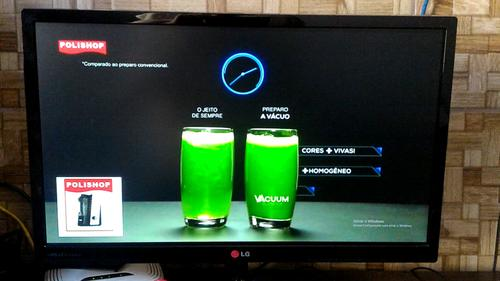Polishop #1: (55, 175, 123, 235)
